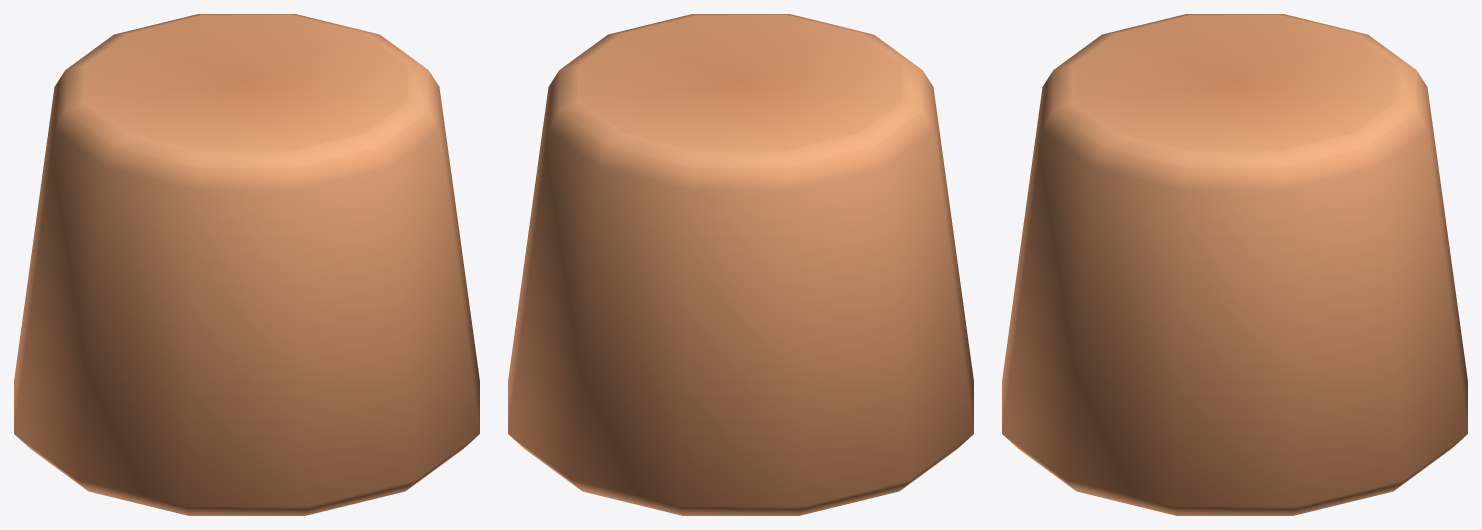
File: tt_sandcastle.glb
3 views of the same model, side by side, from view 1: azimuth 30°, elevation 25°; view 2: azimuth 150°, elevation 25°; view 3: azimuth 270°, elevation 25° (orthographic).
Visible parts, largest first — view 1: sandcastle_A; view 2: sandcastle_A; view 3: sandcastle_A.
Part boxes in pixels (<box>): sandcastle_A: <box>14,14,479,515</box>; sandcastle_A: <box>508,14,973,515</box>; sandcastle_A: <box>1002,14,1467,515</box>.
Size of the model in its own units: 0.4951 by 0.4 by 0.4951.
Materials: 1 (1 with a texture image).
